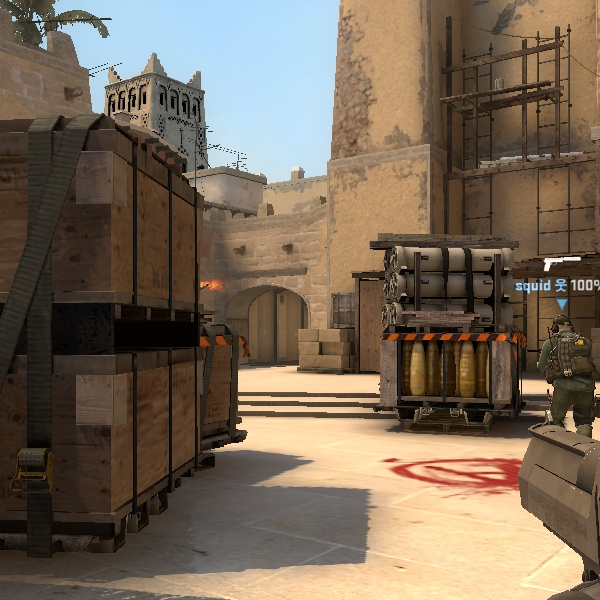ct_body: (526, 308, 597, 437)
ct_head: (548, 311, 578, 341)
